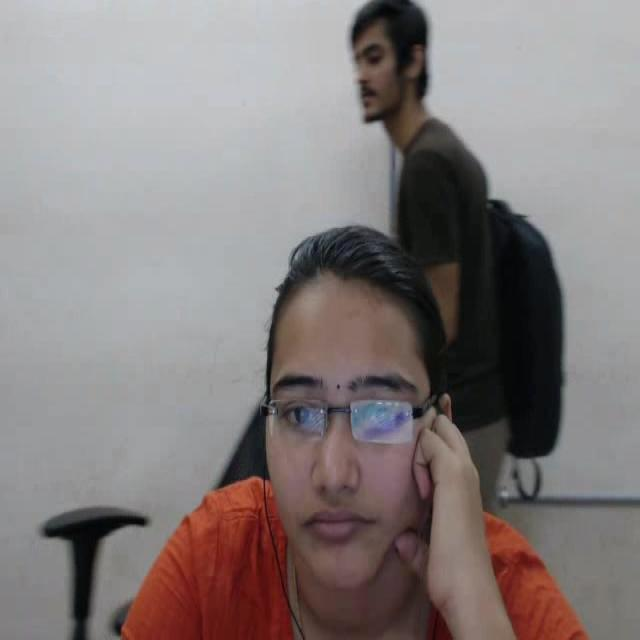Bored: (242, 222, 446, 616)
